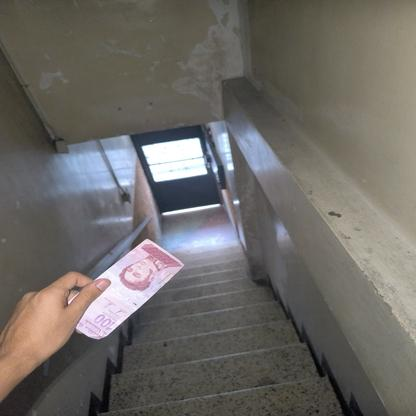one_hundred-front-vef: (66, 238, 184, 340)
